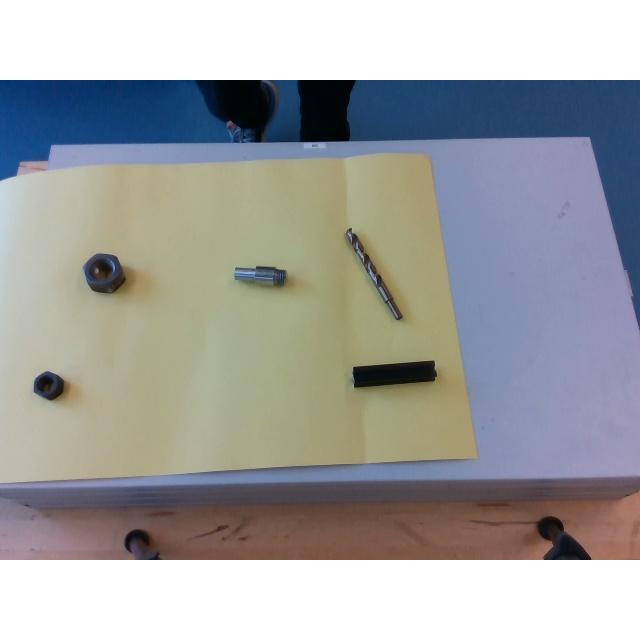Axis2: (233, 264, 287, 288)
Drill: (346, 229, 402, 319)
M30: (84, 252, 124, 292), (32, 371, 64, 399)
S40_40_B: (352, 360, 436, 388)
